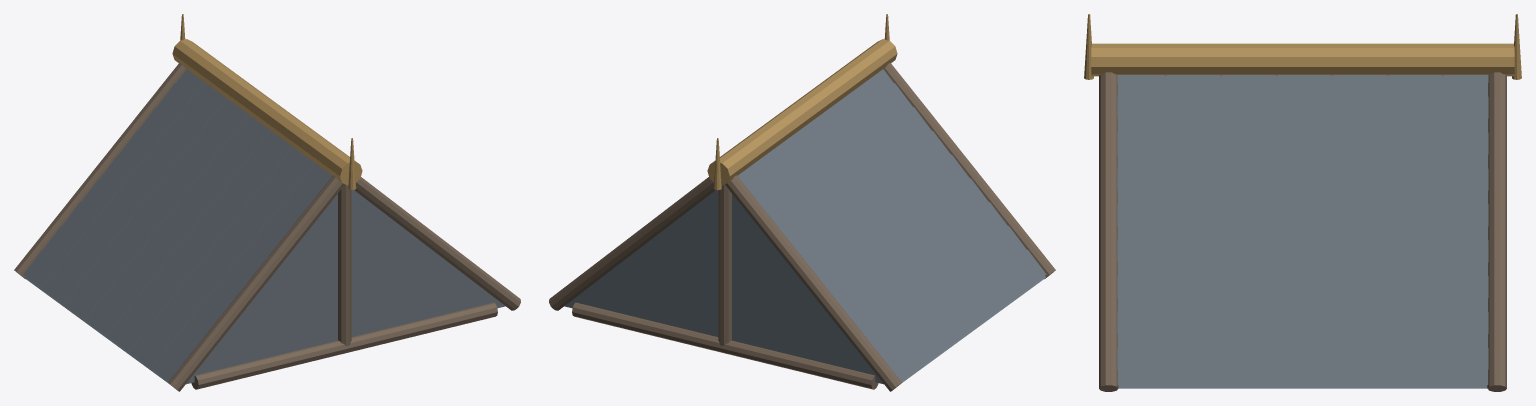
The model's file is slate_roof_intact.glb.
3 views of the same model, side by side, from view 1: azimuth 30°, elevation 25°; view 2: azimuth 150°, elevation 25°; view 3: azimuth 270°, elevation 25° (orthographic). The views are drawn at different scales.
Parts seen in each view (by area): view 1: Body.039; view 2: Body.039; view 3: Body.039.
Boxes of the visible parts, x1,y1,x2,y2 form: Body.039: (14, 14, 520, 391); Body.039: (549, 14, 1055, 391); Body.039: (1084, 14, 1521, 391).
Size of the model in its own units: 2.34 by 1.4 by 2.01.
